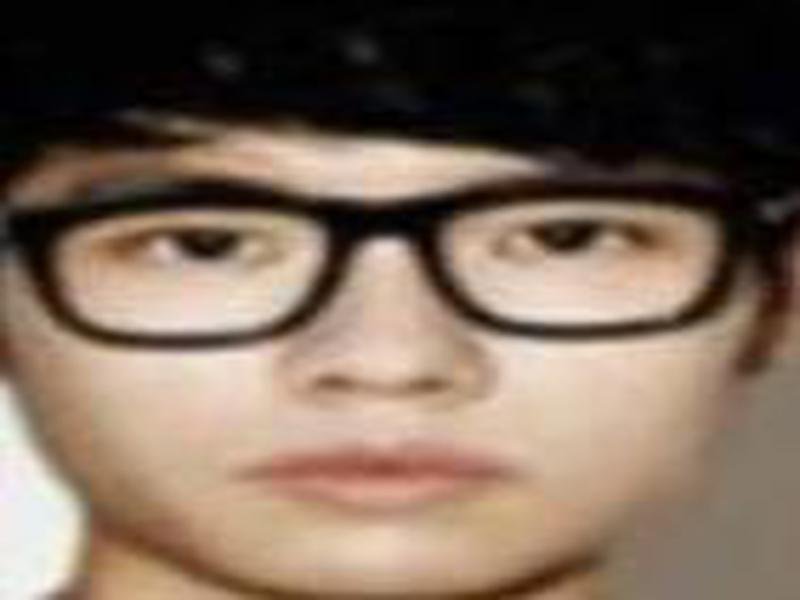without_mask: (19, 106, 765, 570)
